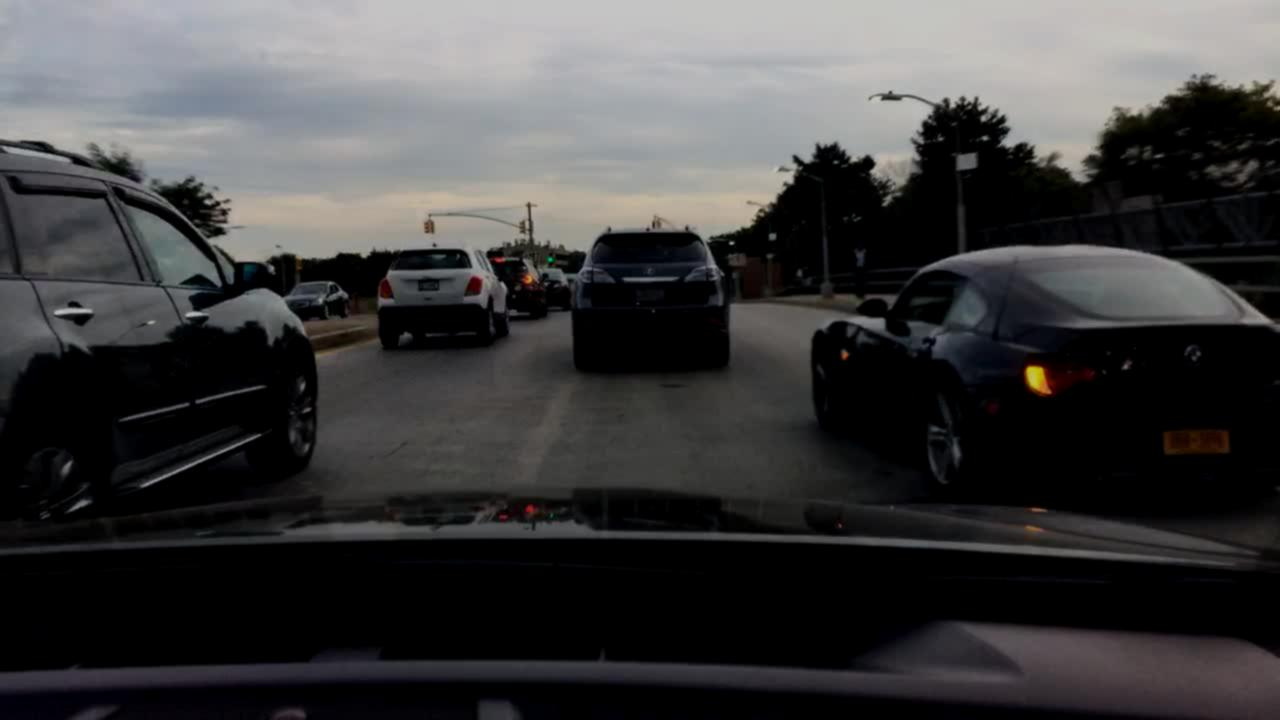bmw: (1180, 340, 1214, 372)
lexus: (640, 261, 662, 278)
